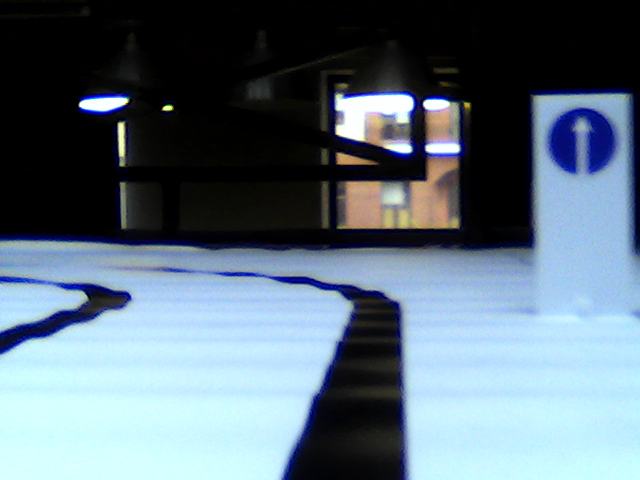forw: (547, 110, 614, 175)
